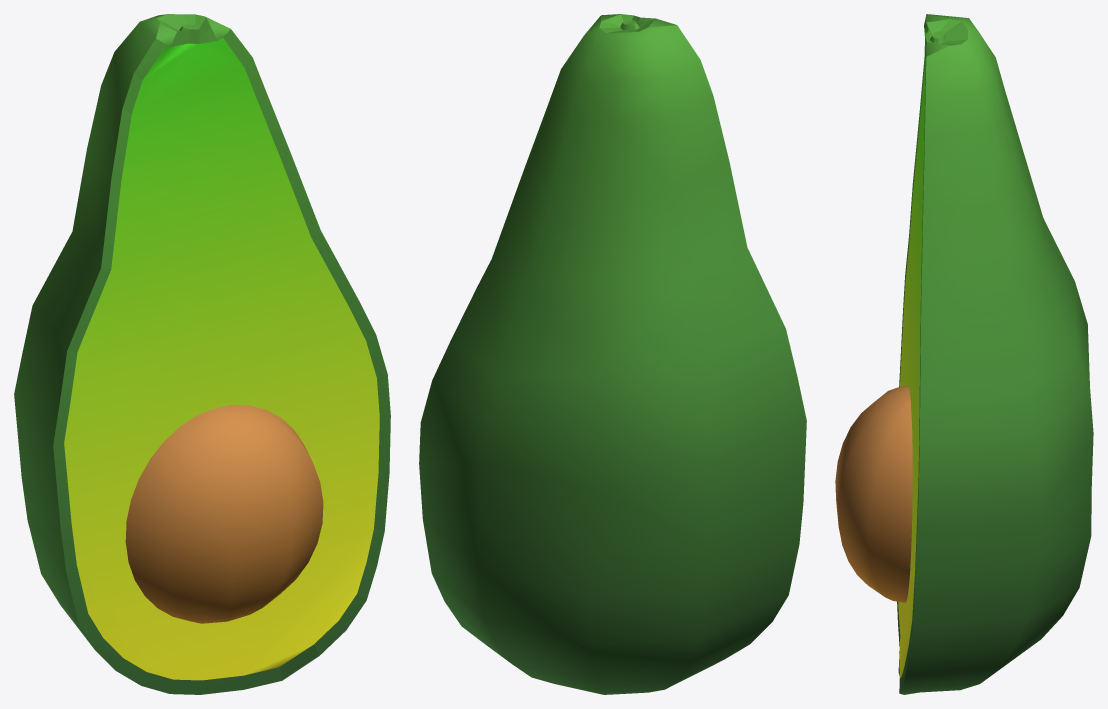
Rendered from avocado_half.fbx.
The picture shows the model from 3 angles, left to right: view 1: azimuth 30°, elevation 25°; view 2: azimuth 150°, elevation 25°; view 3: azimuth 270°, elevation 25°; orthographic projection. The views are drawn at different scales.
Visible parts, largest first — view 1: avocado_half; view 2: avocado_half; view 3: avocado_half.
Boxes of the visible parts, x1,y1,x2,y2 form: avocado_half: [14, 14, 390, 694]; avocado_half: [419, 14, 806, 694]; avocado_half: [835, 14, 1093, 694].
Bounding box in the file's own units: 64.22 × 118 × 43.82.
